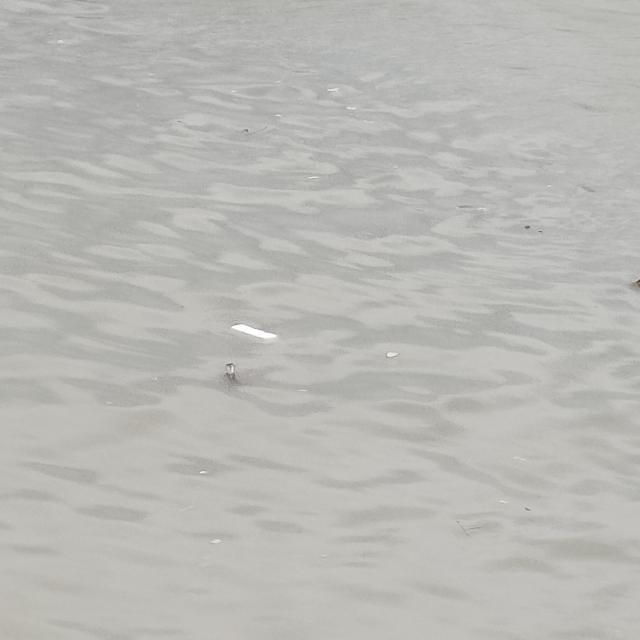Organic Debris: (218, 359, 256, 401)
Plastic: (217, 319, 286, 349)
